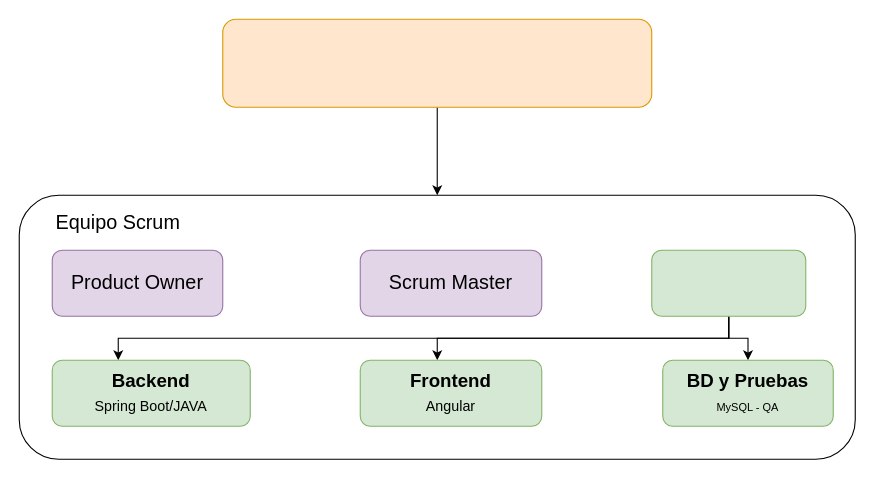
This 875x479 diagram has some shape labels left out. The centre of each missing label's shape, as x and y in pixels:
"CLIENTE / INTERESADO Dueño del Restaurante" belongs at point 437,62.
"Equipo Desarrollo" belongs at point 728,282.
